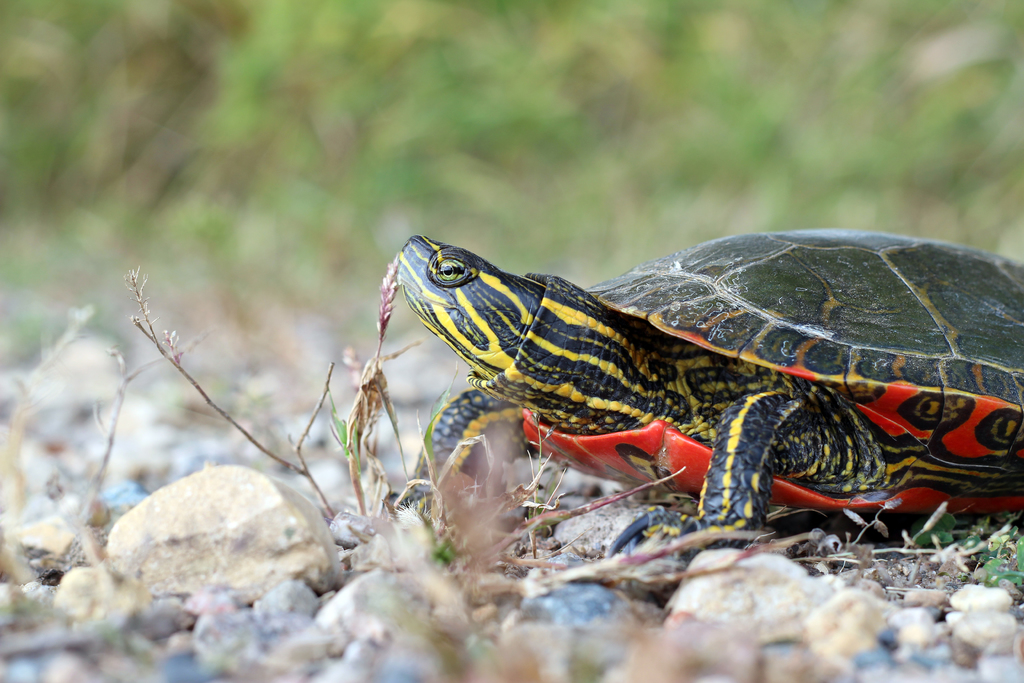Sea turtles: (385, 225, 1023, 556)
